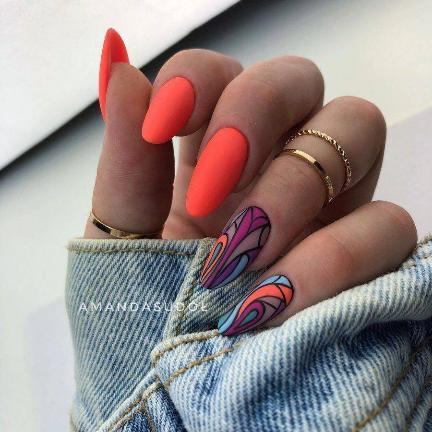Nail: (201, 206, 271, 289), (186, 127, 249, 216), (218, 275, 294, 335), (142, 76, 195, 144), (100, 29, 128, 116)
